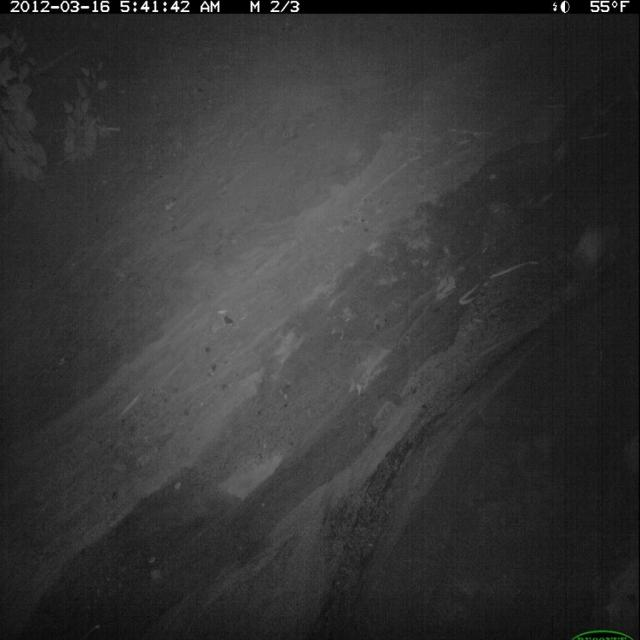opossum: (563, 211, 632, 287)
